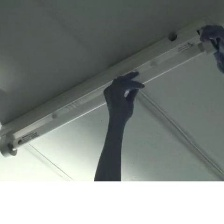light_bulb: (2, 39, 214, 155)
